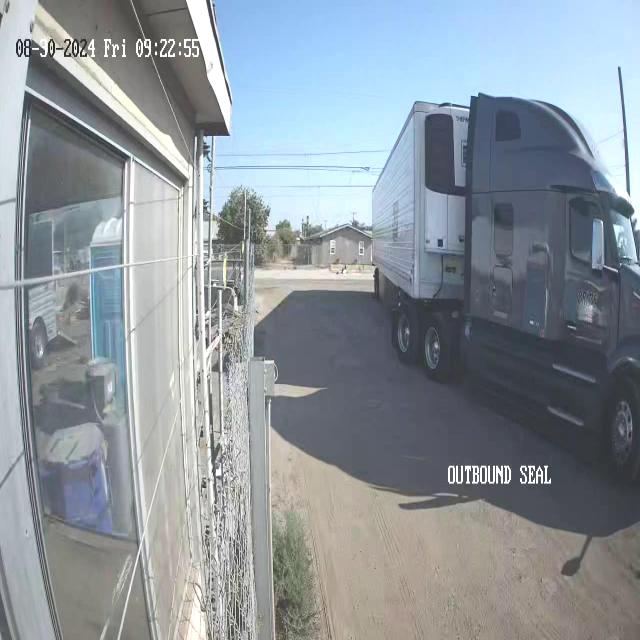CONTAINER: (371, 90, 473, 299)
